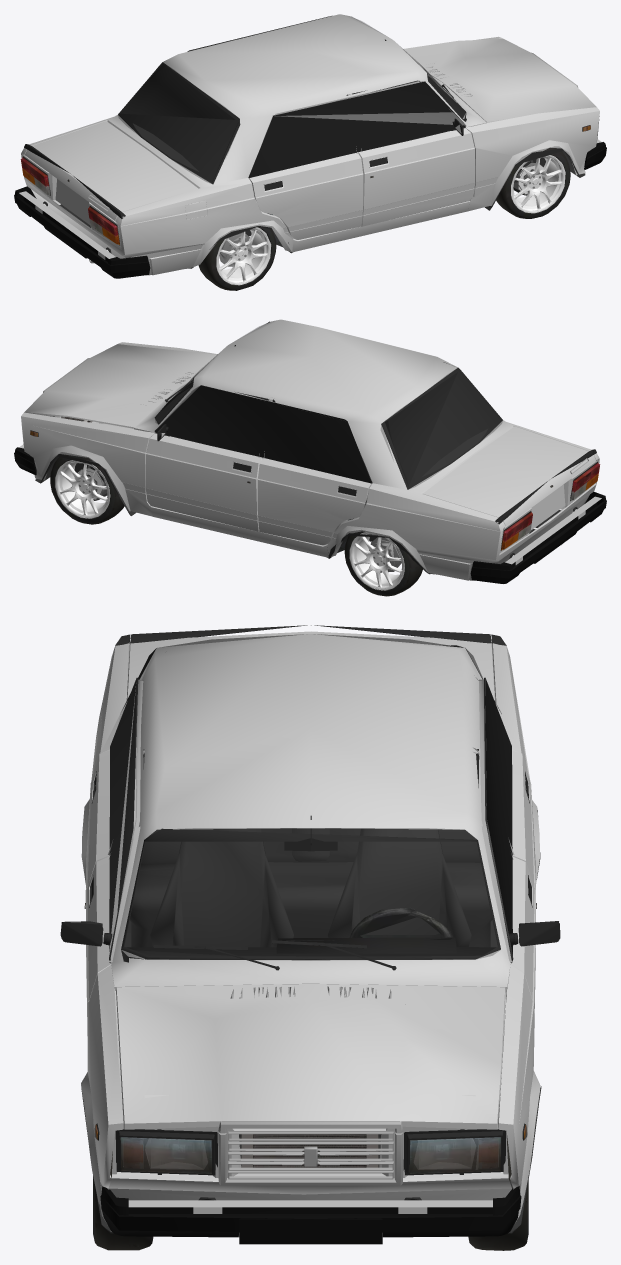
The model's file is ladatun.glb.
The picture shows the model from 3 angles, top to bottom: view 1: azimuth 30°, elevation 25°; view 2: azimuth 150°, elevation 25°; view 3: azimuth 270°, elevation 25°; orthographic projection. The views are drawn at different scales.
Parts seen in each view (by area): view 1: Body_0, Body_Details_1, Glass_4, Bumper_3, Whell_FR_21, Whell_RR_23, Lights_5, Bottom_2, INTERIOR_3_19, Spoiler 1_11; view 2: Body_0, Body_Details_1, Glass_4, Bumper_3, Whell_FL_20, Whell_RL_22, Lights_5, Bottom_2, INTERIOR_3_19, Spoiler 1_11; view 3: Body_0, Glass_4, INTERIOR_2_18, Body_Details_1, Bumper_3, Body_Details_2_10, Lights_5, INTERIOR_17, Radiator_7, Spoiler 1_11, Mirror_6, Steering wheel_8 (+3 smaller).
Boxes of the visible parts, x1,y1,x2,y2 form: Body_0: (21, 14, 599, 275); Body_Details_1: (118, 15, 466, 191); Glass_4: (118, 16, 465, 183); Bumper_3: (14, 139, 606, 278); Whell_FR_21: (496, 147, 570, 218); Whell_RR_23: (198, 226, 276, 290); Lights_5: (20, 125, 590, 245); Bottom_2: (59, 148, 585, 268); INTERIOR_3_19: (133, 61, 280, 244); Spoiler 1_11: (24, 144, 125, 218); Body_0: (21, 319, 599, 580); Body_Details_1: (154, 321, 502, 497); Glass_4: (155, 323, 502, 489); Bumper_3: (14, 444, 606, 583); Whell_FL_20: (50, 454, 124, 524); Whell_RL_22: (344, 531, 422, 596); Lights_5: (30, 416, 600, 550); Bottom_2: (35, 454, 561, 574); INTERIOR_3_19: (340, 362, 487, 549); Spoiler 1_11: (495, 449, 596, 524); Body_0: (81, 631, 540, 1231); Glass_4: (121, 634, 501, 959); INTERIOR_2_18: (130, 828, 492, 947); Body_Details_1: (89, 645, 532, 962); Bumper_3: (100, 1186, 521, 1244); Body_Details_2_10: (84, 636, 536, 1185); Lights_5: (94, 1123, 527, 1175); INTERIOR_17: (121, 815, 495, 962); Radiator_7: (241, 1134, 378, 1167); Spoiler 1_11: (115, 625, 506, 645); Mirror_6: (60, 921, 560, 963); Steering wheel_8: (349, 907, 452, 937).
Size of the model in its own units: 4.16 by 1.36 by 1.8.
30 materials, 11 textured.
